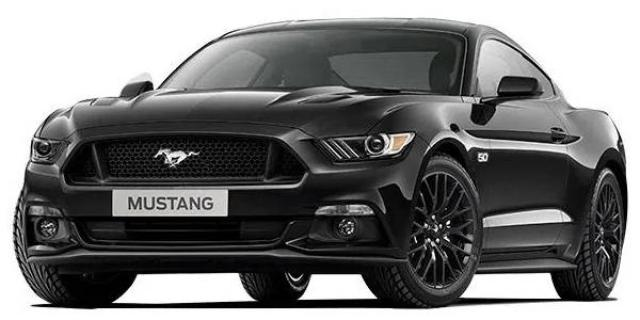ford-mustang: (14, 17, 628, 309)
